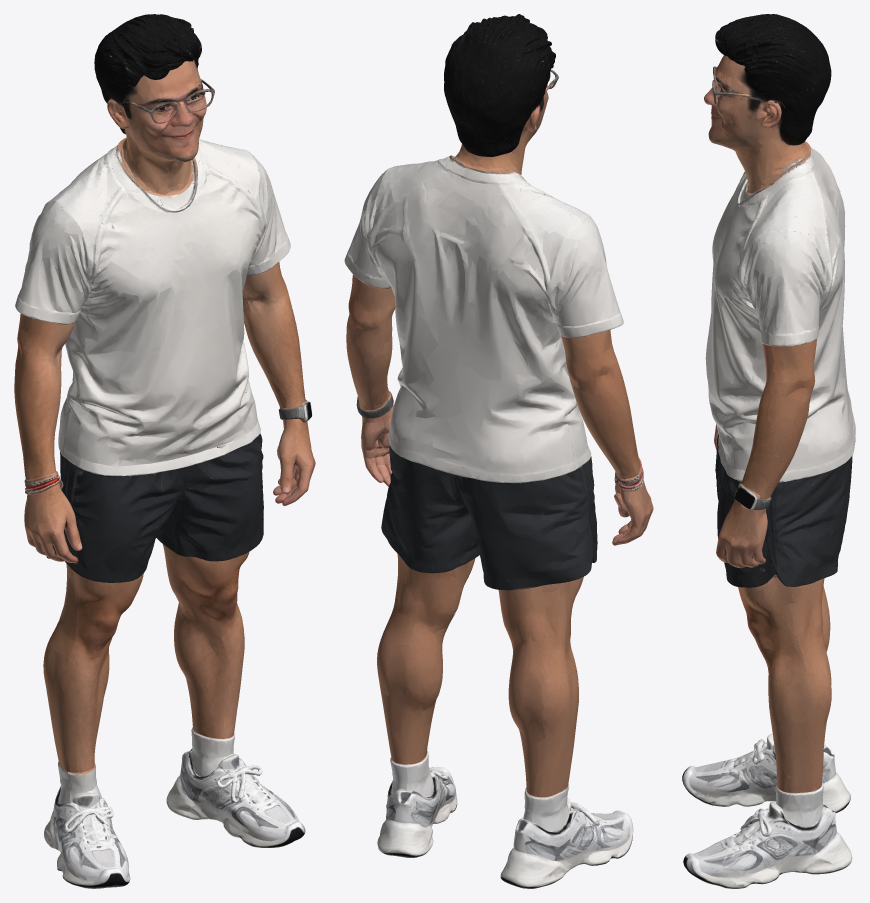
The model's file is bhavya.glb.
The picture shows the model from 3 angles, left to right: view 1: azimuth 30°, elevation 25°; view 2: azimuth 150°, elevation 25°; view 3: azimuth 270°, elevation 25°; orthographic projection.
Size of the model in its own units: 0.6924 by 1.9 by 0.3684.
Materials: 1 (1 with a texture image).
